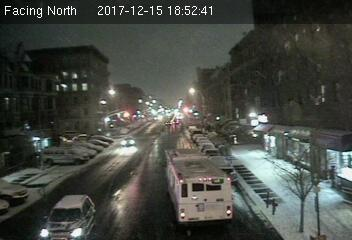bus: (164, 148, 233, 222)
car: (35, 192, 103, 238), (121, 136, 136, 146)
